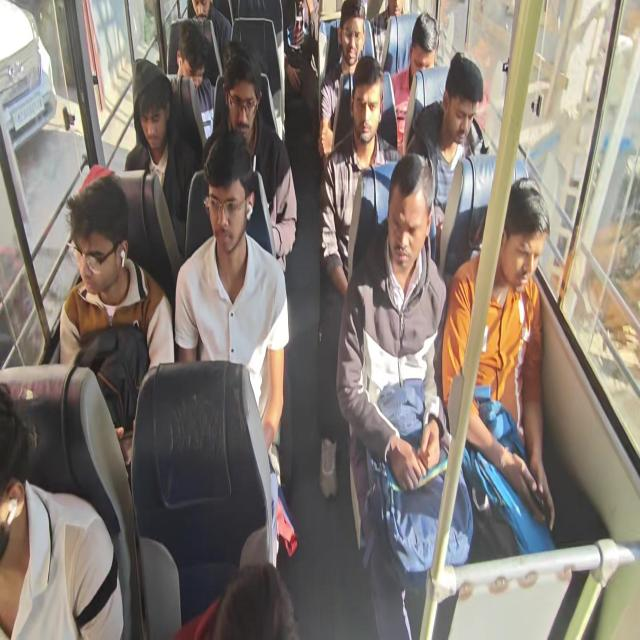person: (335, 152, 474, 638), (441, 177, 556, 535), (173, 129, 290, 455), (317, 55, 402, 499), (58, 170, 175, 478), (0, 380, 124, 638), (202, 42, 298, 273), (405, 51, 484, 262), (124, 58, 197, 257), (174, 560, 298, 638), (318, 0, 366, 162), (389, 11, 440, 149), (169, 22, 215, 142), (283, 0, 319, 148), (186, 1, 232, 83), (370, 0, 405, 68)
